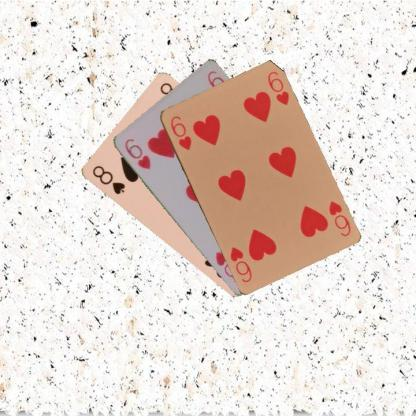6h: (121, 136, 152, 170), (326, 198, 352, 238), (167, 113, 193, 152)
8s: (90, 163, 126, 196)
